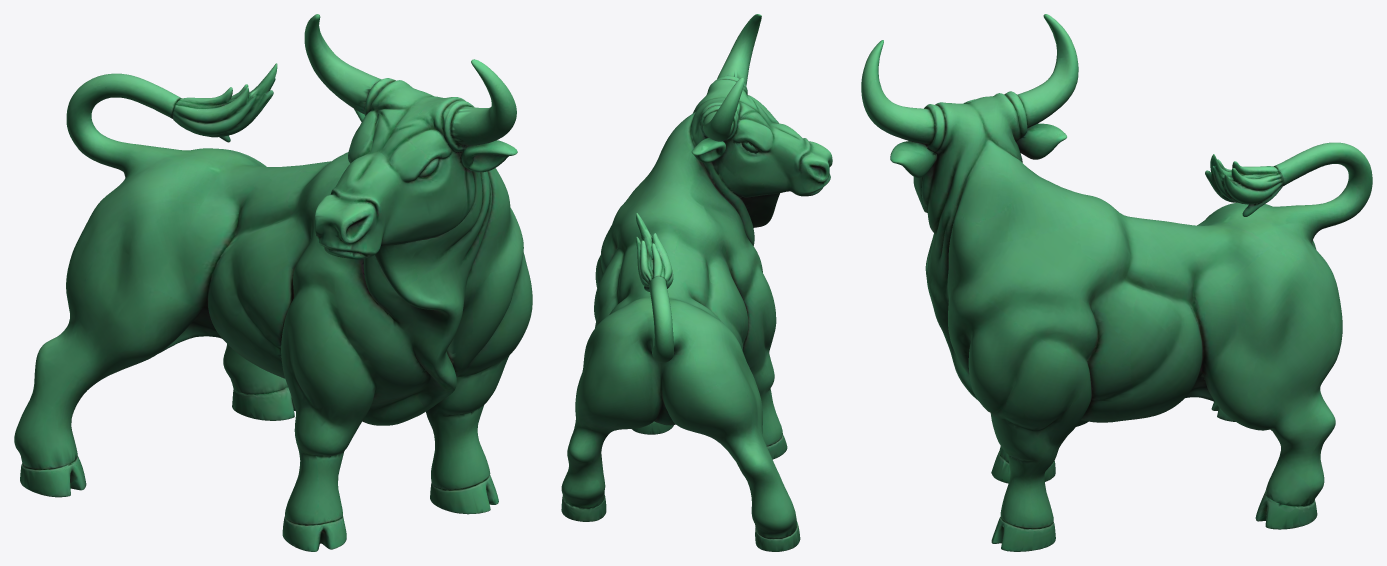
Rendered from bull.glb.
The picture shows the model from 3 angles, left to right: view 1: azimuth 30°, elevation 25°; view 2: azimuth 150°, elevation 25°; view 3: azimuth 270°, elevation 25°; orthographic projection. The views are drawn at different scales.
Visible parts, largest first — view 1: tripo_node_fd03b4e2-839c-4cbf-b872-a08e3f8796ab; view 2: tripo_node_fd03b4e2-839c-4cbf-b872-a08e3f8796ab; view 3: tripo_node_fd03b4e2-839c-4cbf-b872-a08e3f8796ab.
Boxes of the visible parts, x1=… form: tripo_node_fd03b4e2-839c-4cbf-b872-a08e3f8796ab: x1=14, y1=14, x2=532, y2=551; tripo_node_fd03b4e2-839c-4cbf-b872-a08e3f8796ab: x1=561, y1=14, x2=832, y2=551; tripo_node_fd03b4e2-839c-4cbf-b872-a08e3f8796ab: x1=861, y1=14, x2=1372, y2=551.
Size of the model in its own units: 0.7505 by 0.9784 by 0.9652.
Materials: 1 (1 with a texture image).
